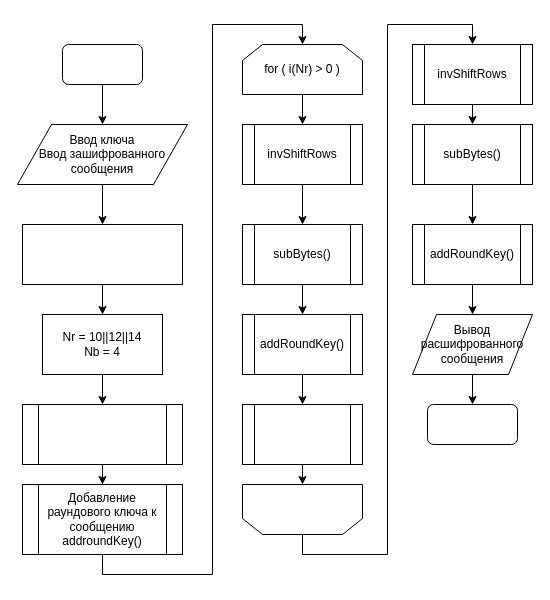
Image size: 550x600. Some labels were removed from this diagram. Each missing label, with the box of its shape:
mixColums: (242, 404, 362, 464)
Расчет раундовых ключей expKey(): (22, 404, 182, 464)
Создание матрицы из строки stateInput stateKey: (22, 224, 182, 284)
Старт: (62, 44, 142, 84)
Стоп: (426, 404, 518, 444)
